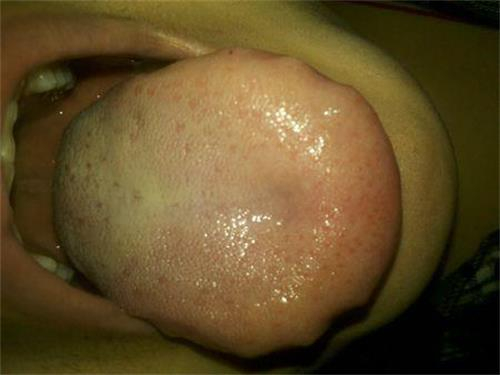huangtaishe: (58, 47, 401, 356)
pangdashe: (58, 47, 401, 356)
